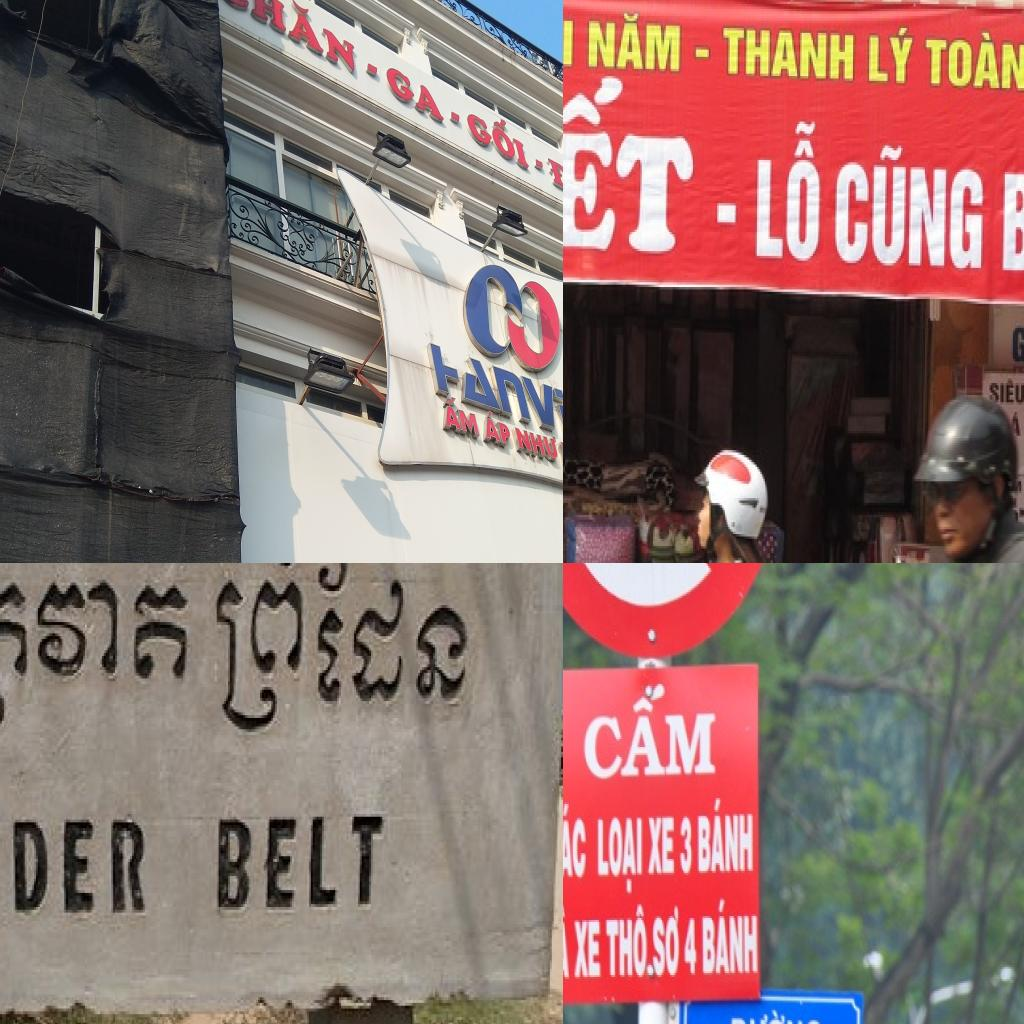text: (563, 69, 704, 261), (832, 136, 989, 277), (213, 806, 394, 921), (0, 808, 152, 923), (578, 678, 724, 786), (217, 0, 361, 79), (754, 117, 826, 268), (720, 23, 858, 86), (488, 360, 563, 462), (586, 6, 685, 78), (923, 25, 1024, 95), (696, 794, 757, 885), (700, 894, 761, 985), (464, 101, 535, 177), (387, 58, 450, 131), (592, 814, 646, 898), (603, 904, 650, 985), (866, 21, 918, 88), (998, 150, 1024, 282), (650, 904, 682, 985), (645, 810, 677, 883), (563, 798, 588, 888), (570, 916, 603, 983), (439, 392, 482, 442), (512, 422, 561, 464), (725, 1006, 826, 1024), (482, 406, 514, 452), (546, 149, 563, 230), (677, 812, 695, 883), (683, 908, 699, 985), (987, 378, 1024, 409), (563, 902, 574, 984), (1011, 311, 1024, 368)
